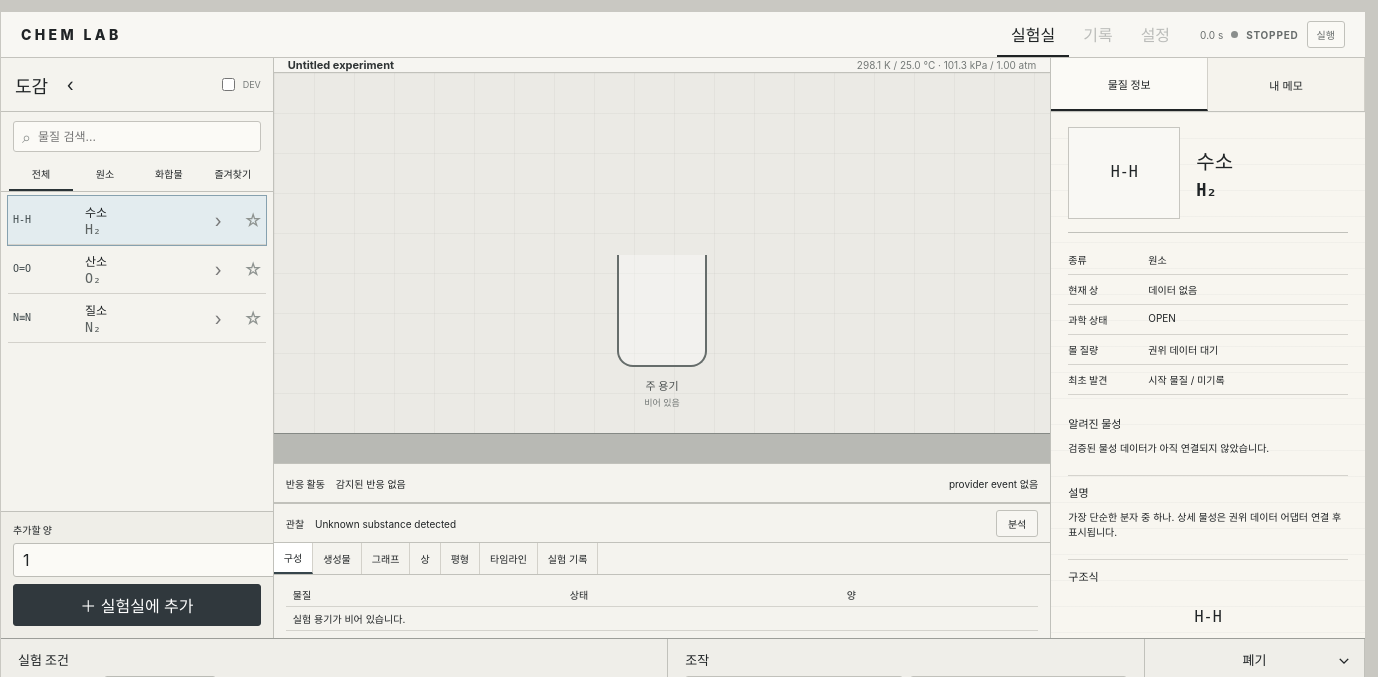
Test: LaboratoryWorkspace workbench refinement › adds a finite mol amount through the provider
The width and height of the screenshot is (1378, 677).
Replace the text in the number field named "추가할 양" with "0.25": (147, 560) 13,543 -> 281,577
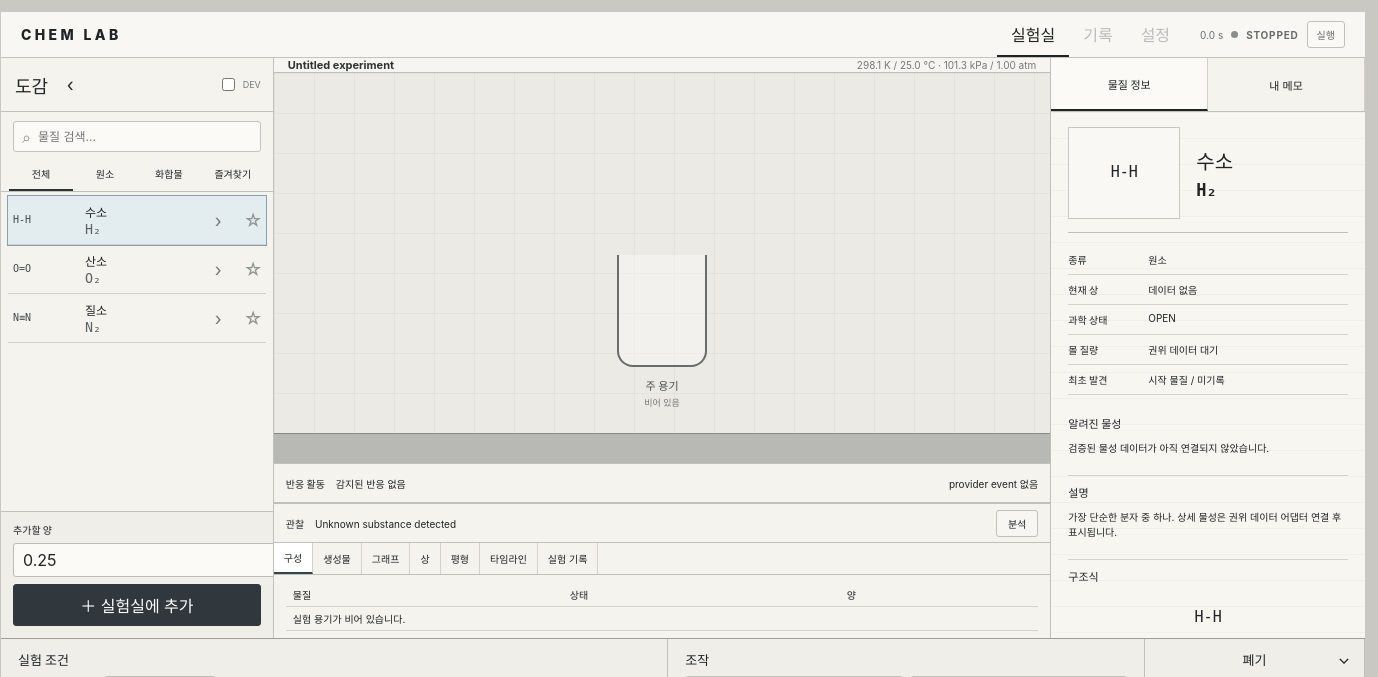
Click the button "＋ 실험실에 추가": (137, 605) 13,584 -> 261,626
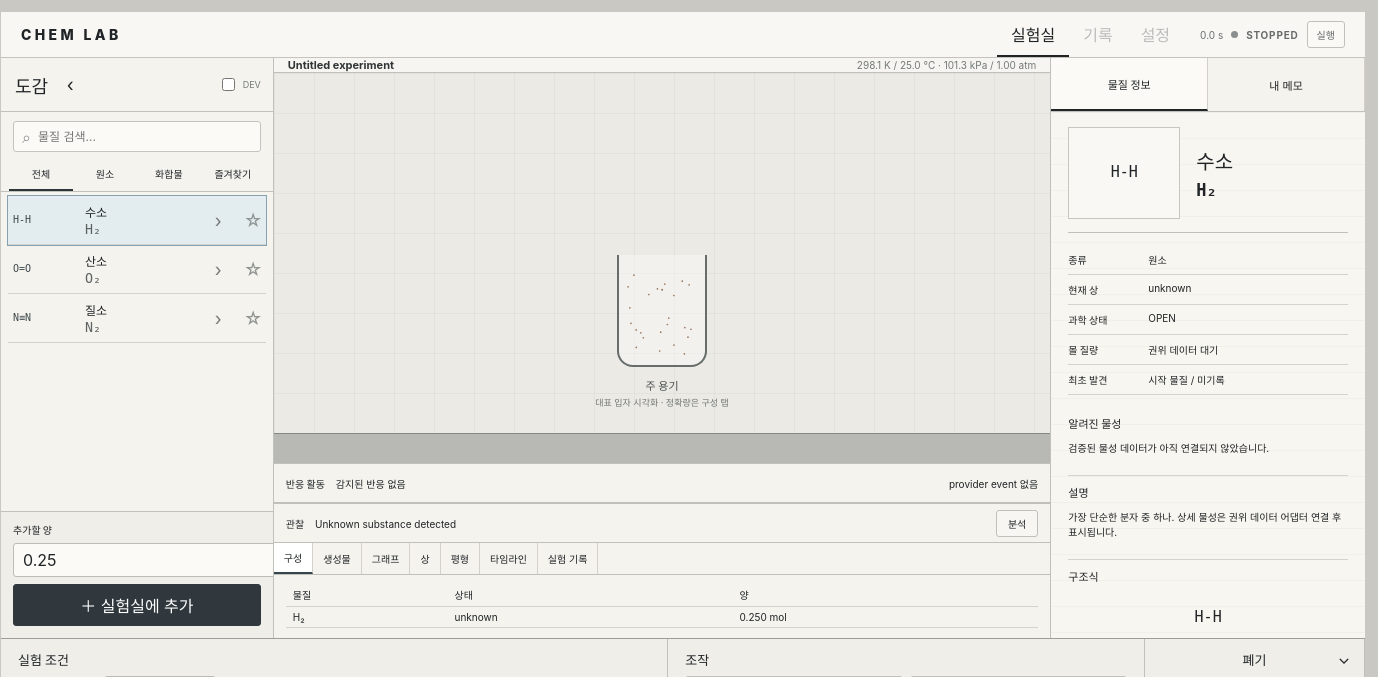
Click the button "타임라인": (509, 558) 480,543 -> 538,574
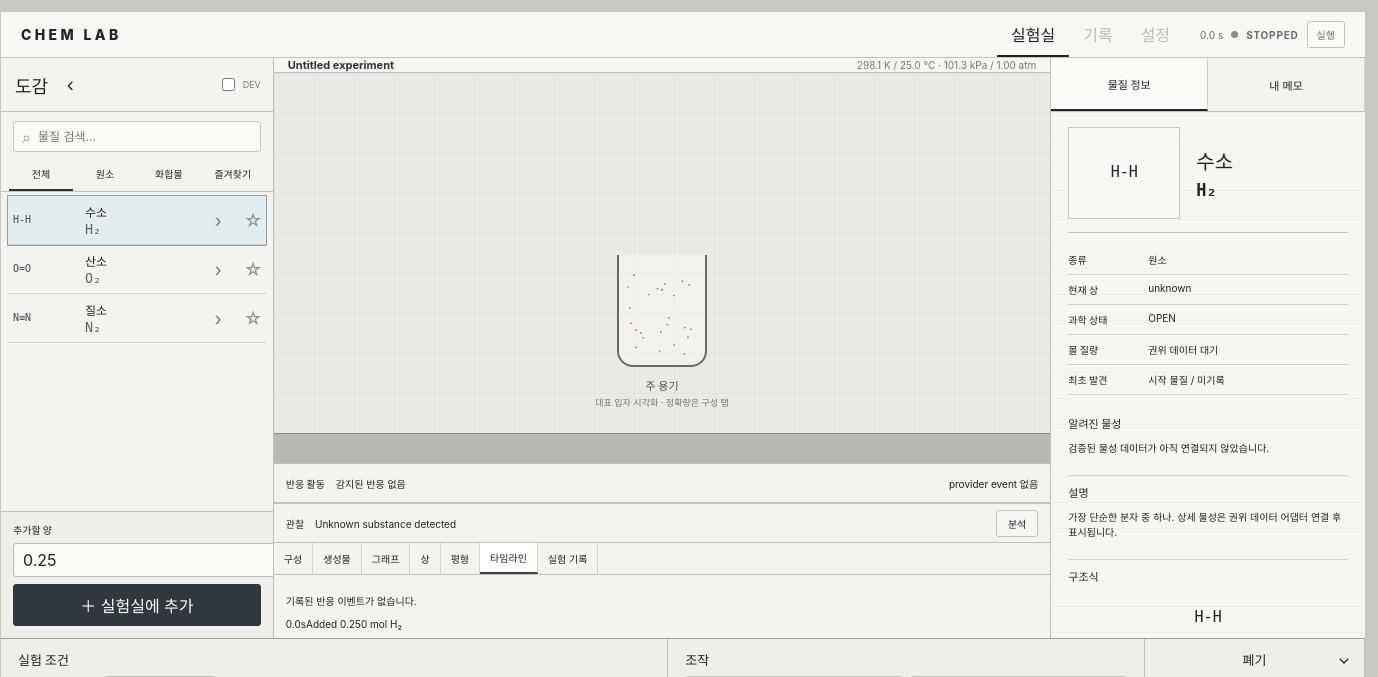
Expected: the text "Added 0.250 mol H₂" is shown, 306,618 -> 402,630
